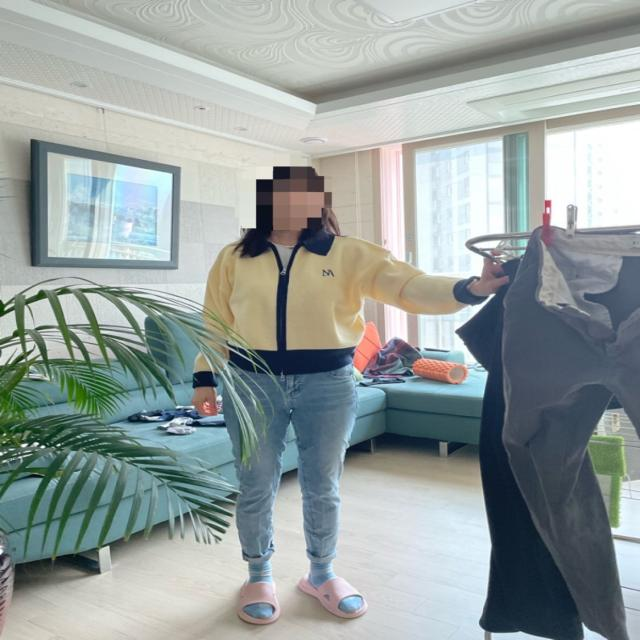cardigan: (190, 234, 484, 391)
denimpants: (220, 354, 358, 567)
